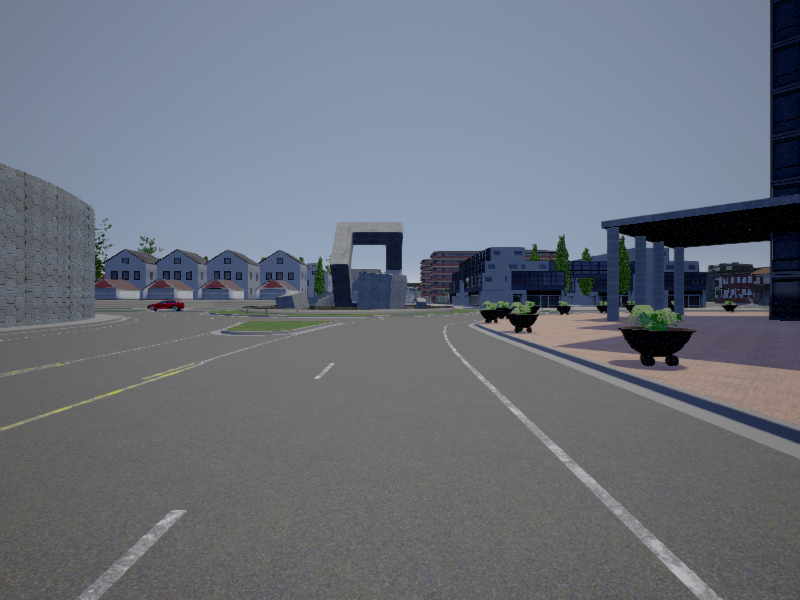Attacker: (150, 298, 186, 312)
